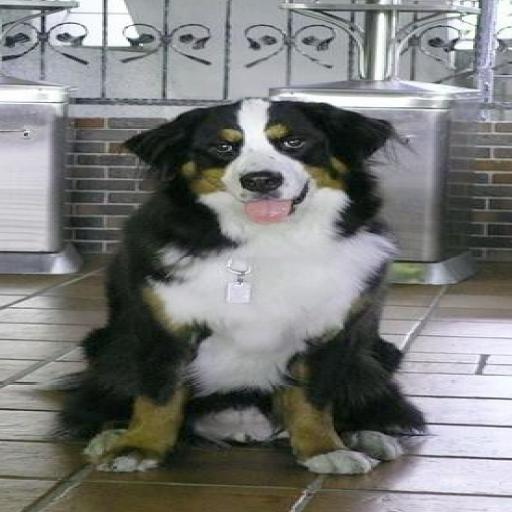dog_face: (134, 96, 388, 218)
